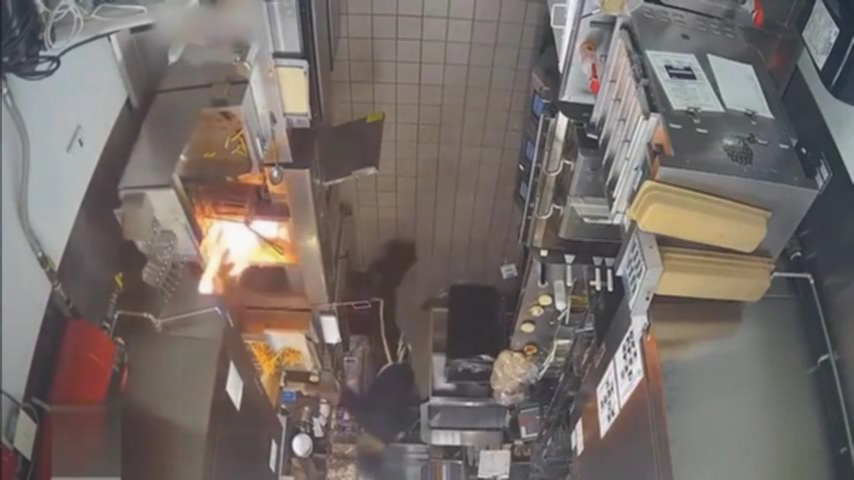fire: (188, 205, 291, 312)
